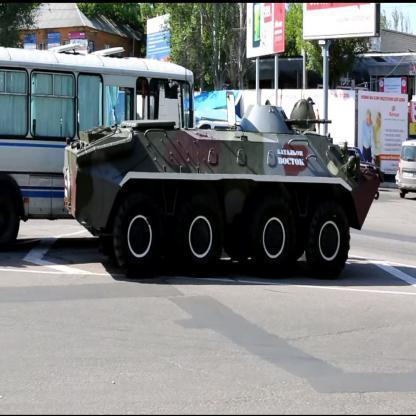MIL_IFV: (62, 96, 382, 284)
